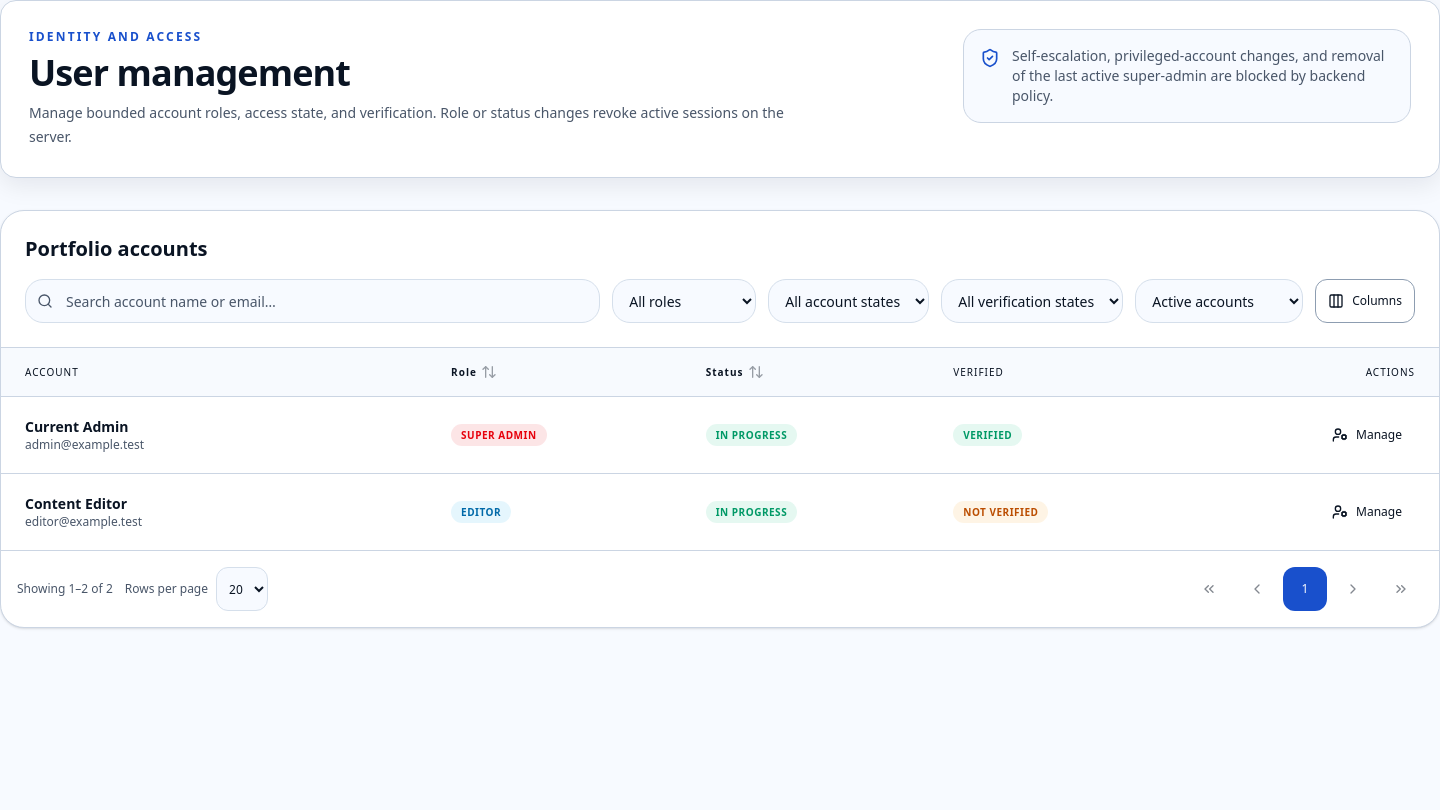
Scenario: user management workspace › updates a non-self account with bounded access controls
The image size is (1440, 810).
Check: the text "Content Editor" is shown, box [25,494,127,513]
Click the button named "Manage Content Editor" at (1367, 512), box [1319,490,1415,534]
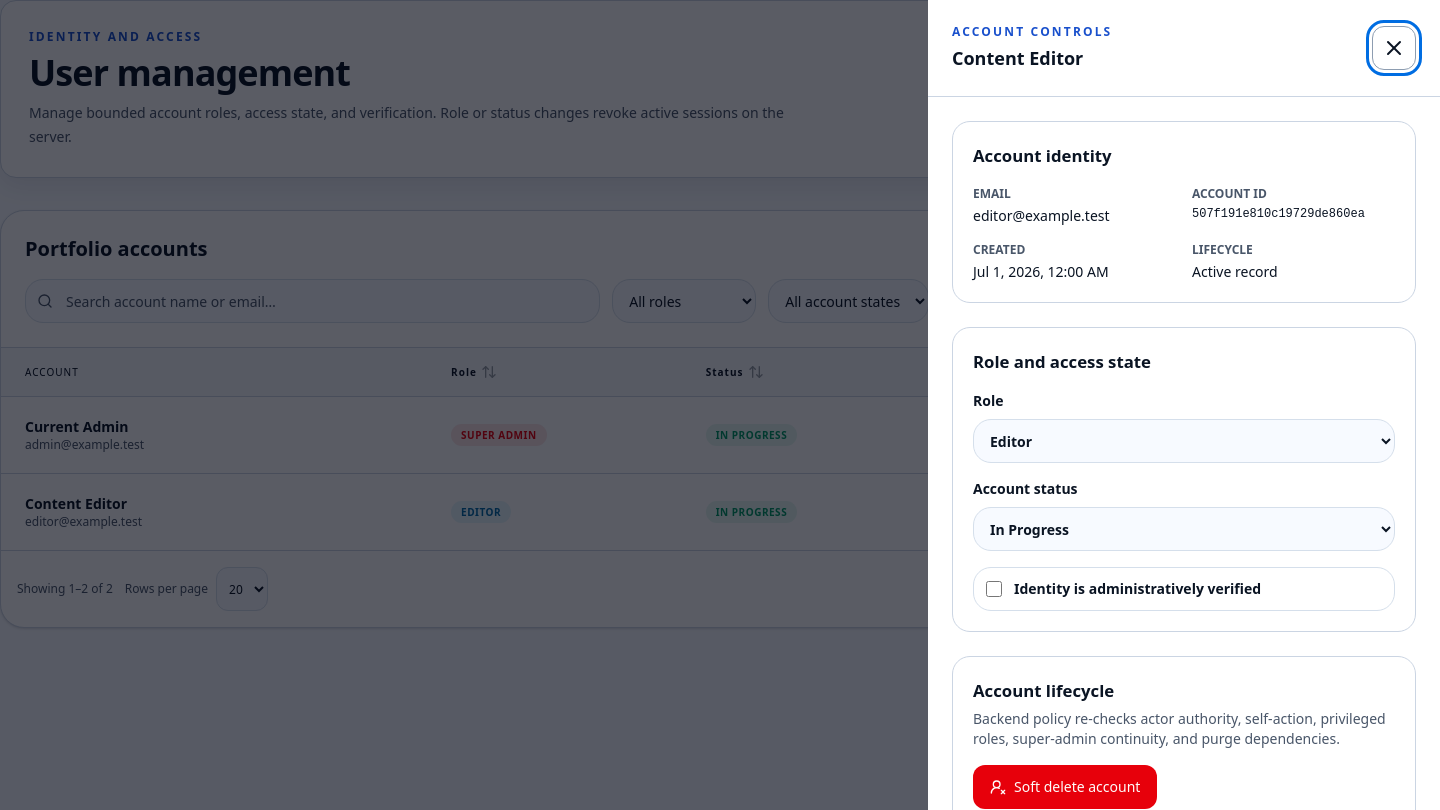
Select "Author" in the dropdown labelled "Role" at (1184, 441), box [973,419,1395,463]
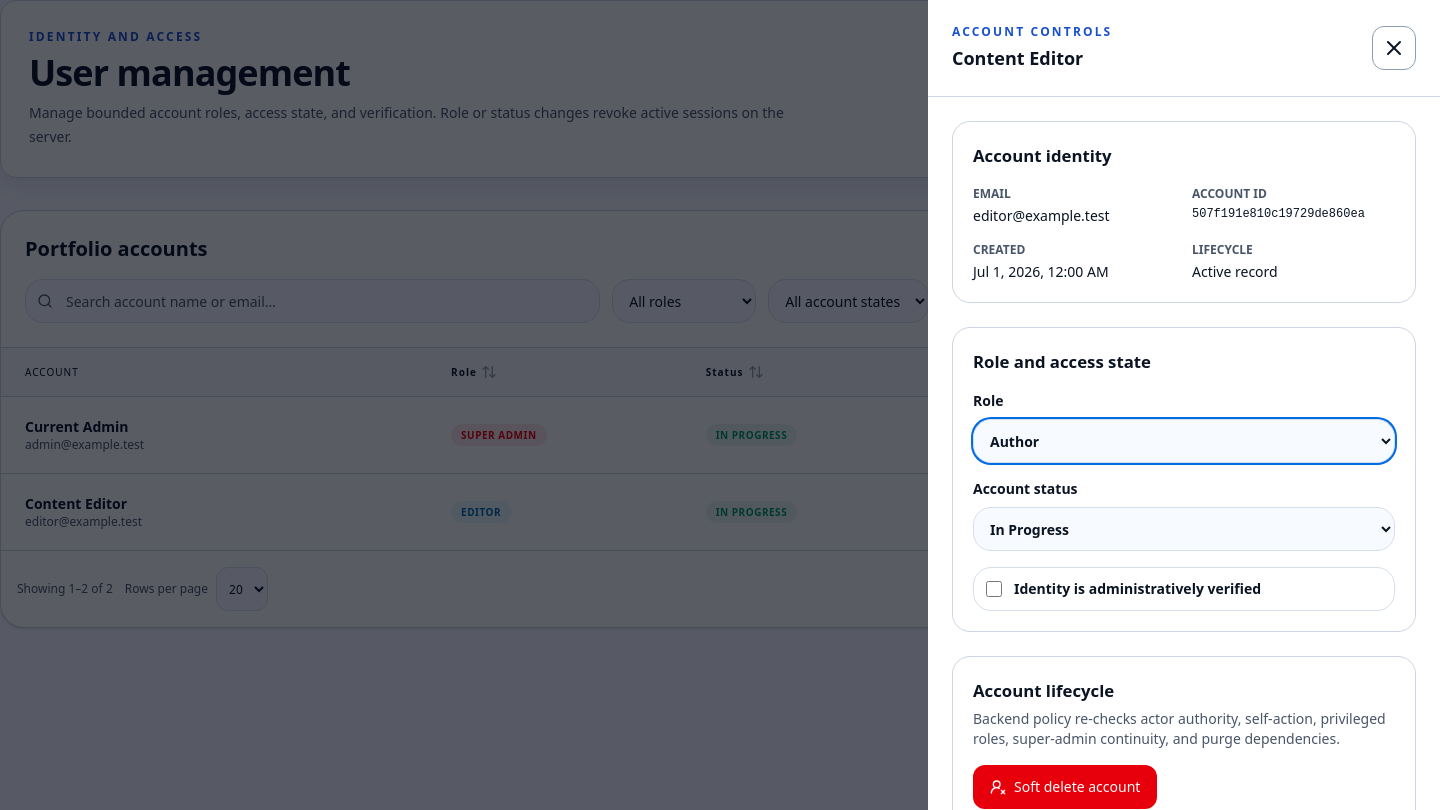
Select "Blocked" in the dropdown labelled "Account status" at (1184, 529), box [973,507,1395,551]
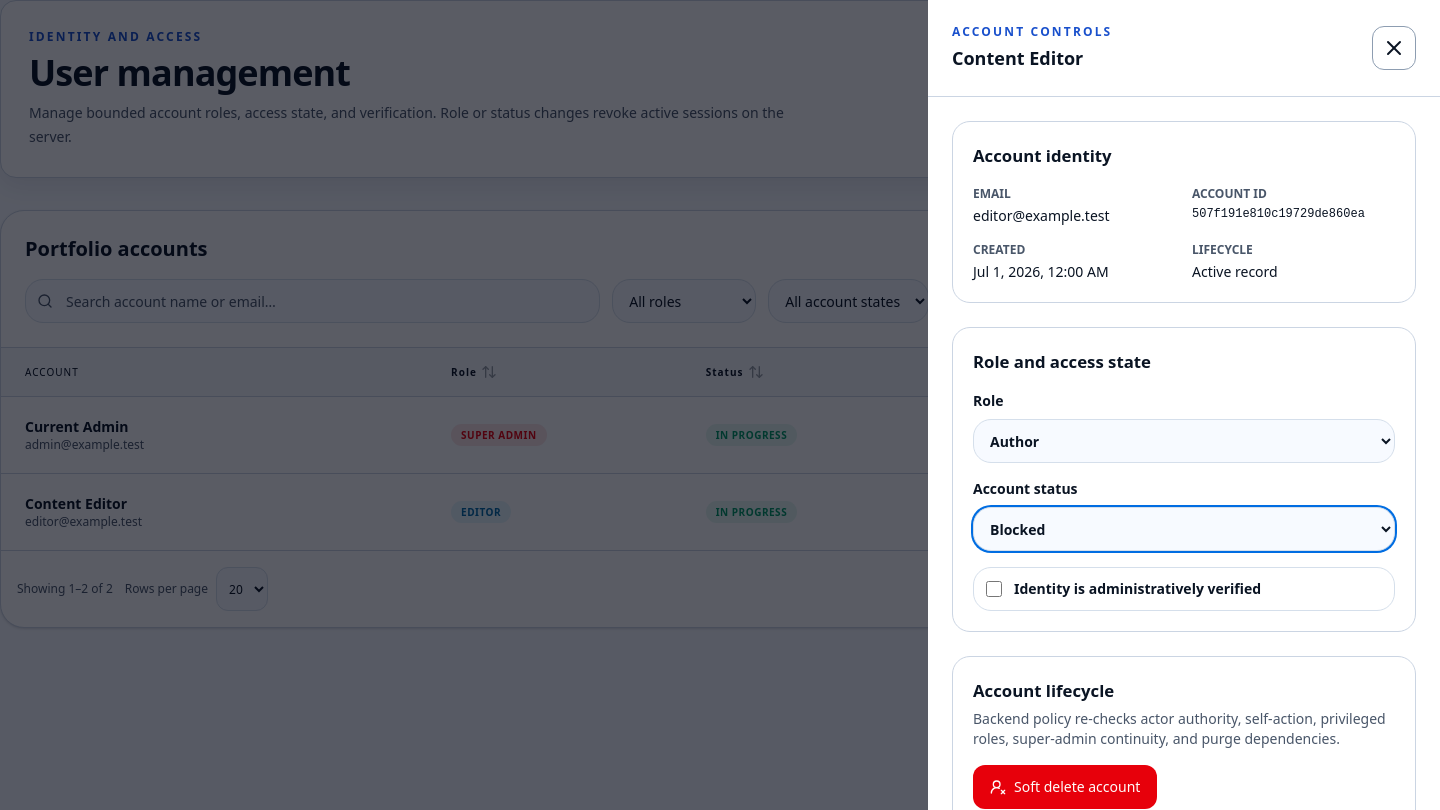
Click the checkbox labelled "Identity is administratively verified" at (994, 589), box [986,581,1002,597]
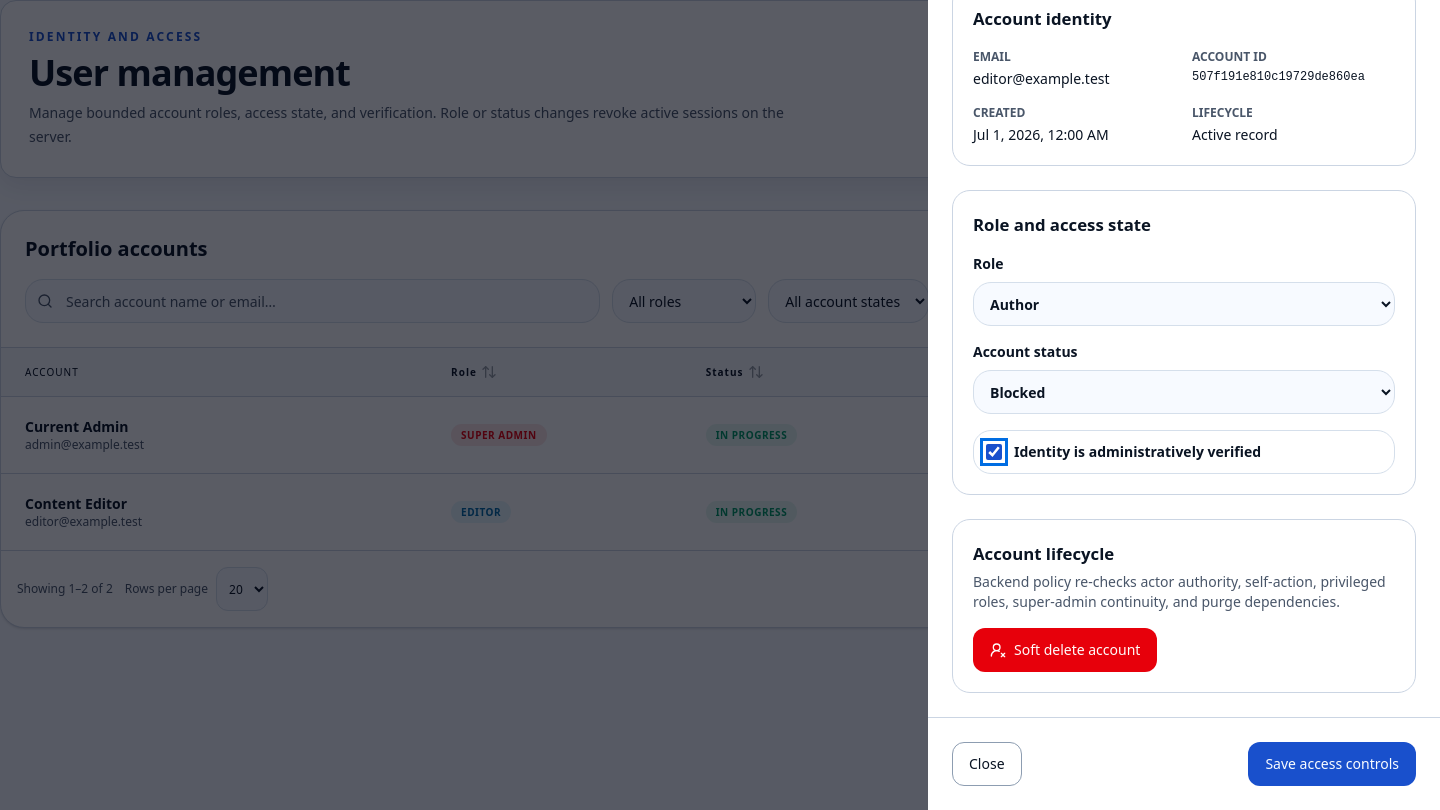
Click the button "Save access controls" at (1332, 764), box [1248,742,1416,786]
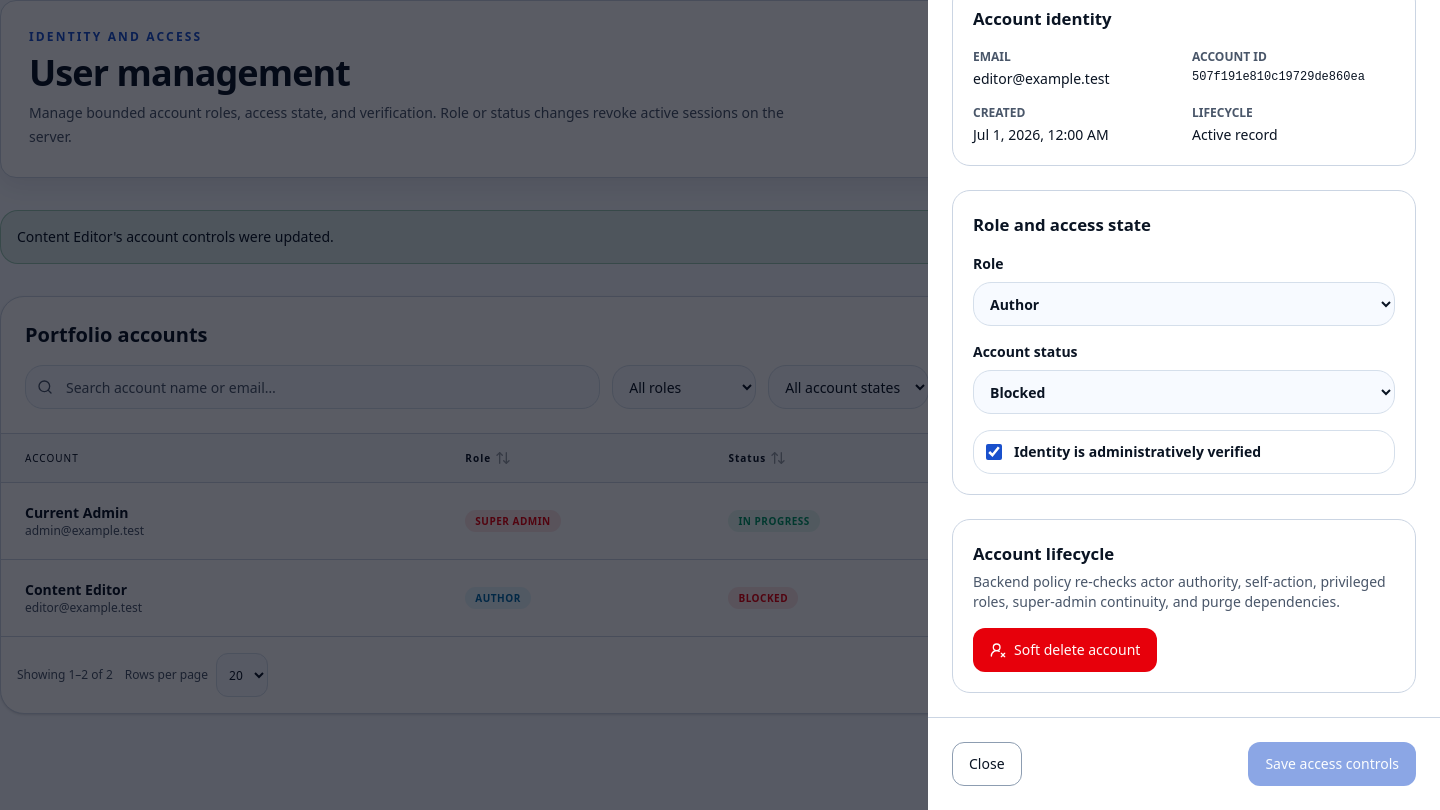
Check: the text "Content Editor's account controls were updated." is shown, box [0,210,1439,264]
